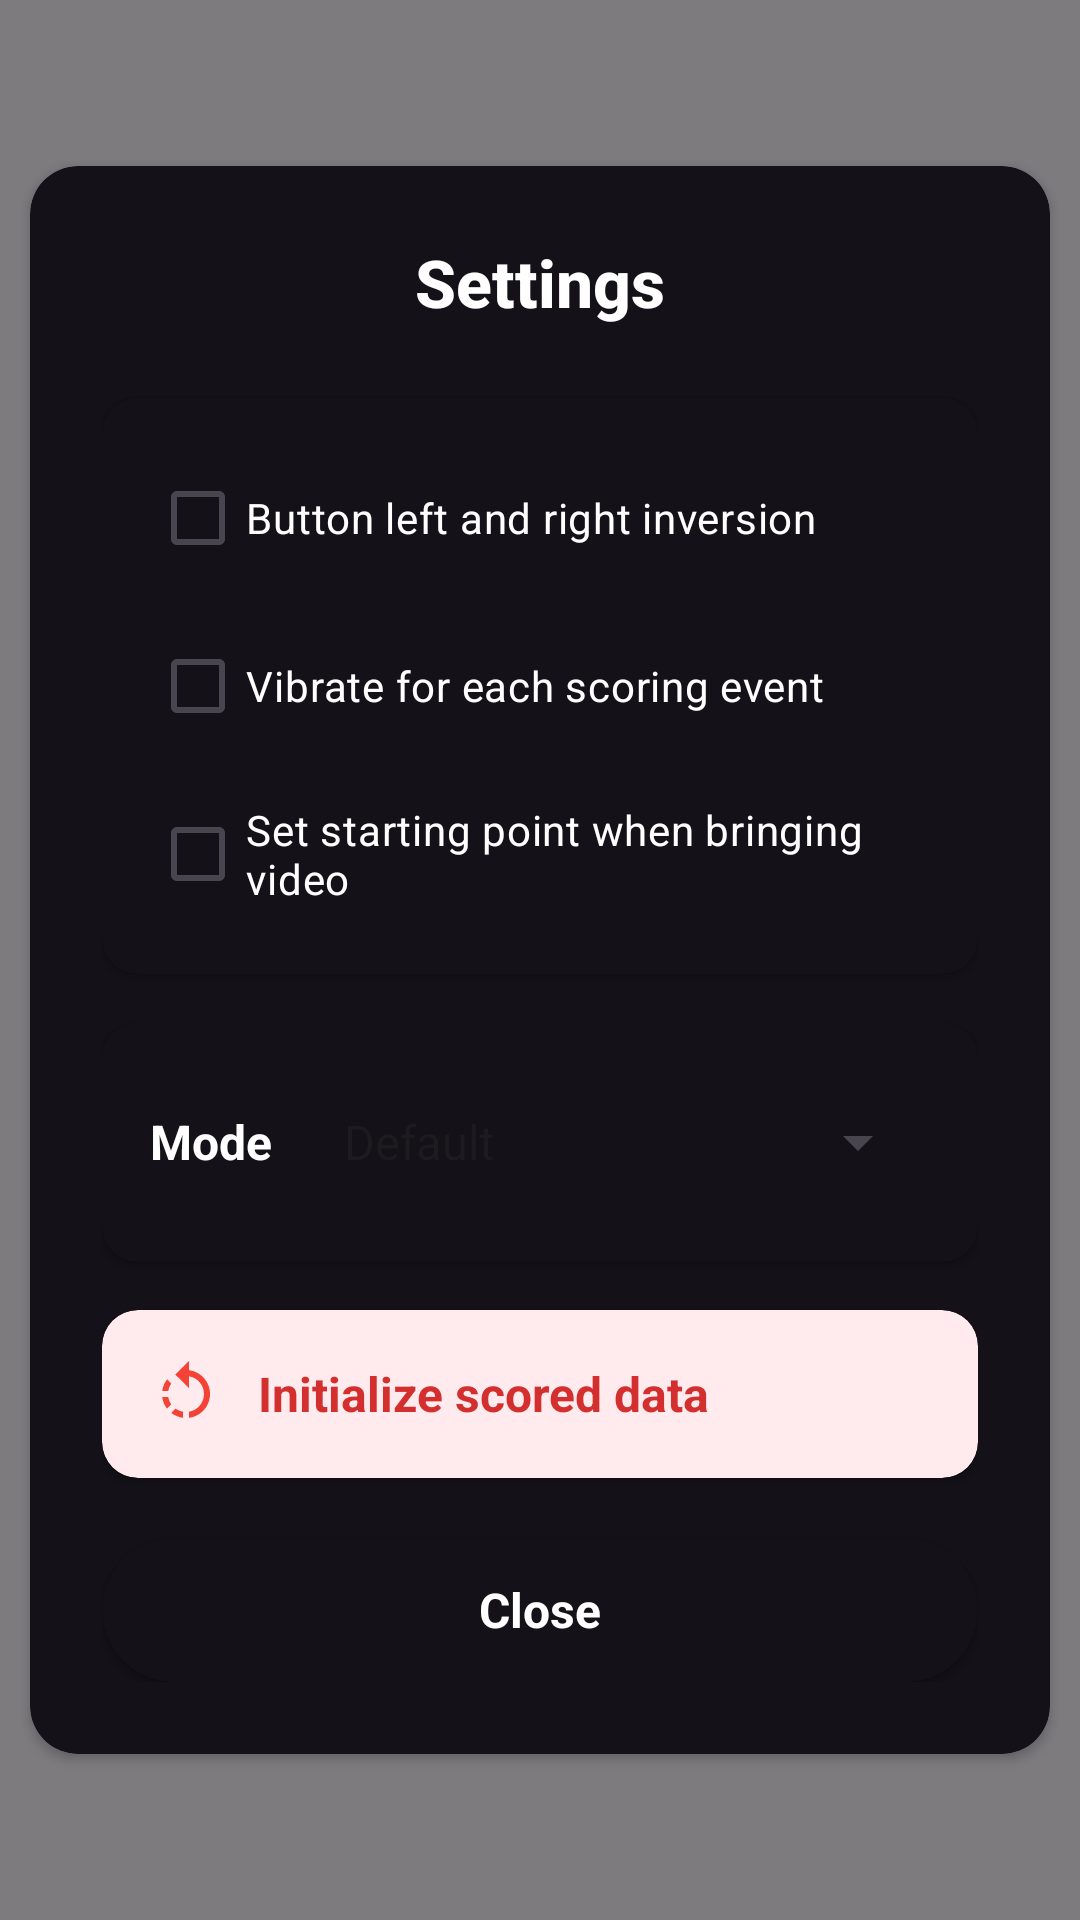

Screen size 1080x1920. Icon name, then its box in pixels as [left=x1, top=y1, right=x2, bottom=y2]:
rotate left: [left=162, top=1361, right=210, bottom=1418]
